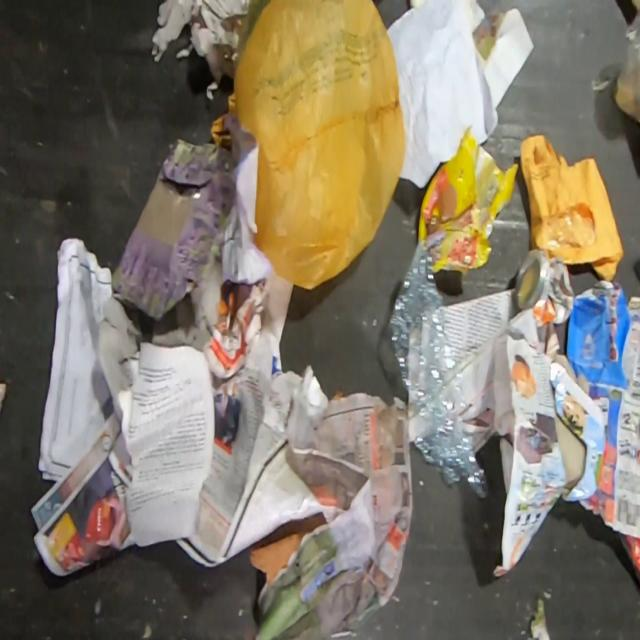cardboard: (110, 137, 235, 323), (250, 512, 328, 586)
metal: (514, 248, 576, 327)
rigid_plastic: (389, 238, 487, 499), (622, 12, 640, 98)
soft_plastic: (210, 0, 408, 292), (418, 127, 518, 274)
